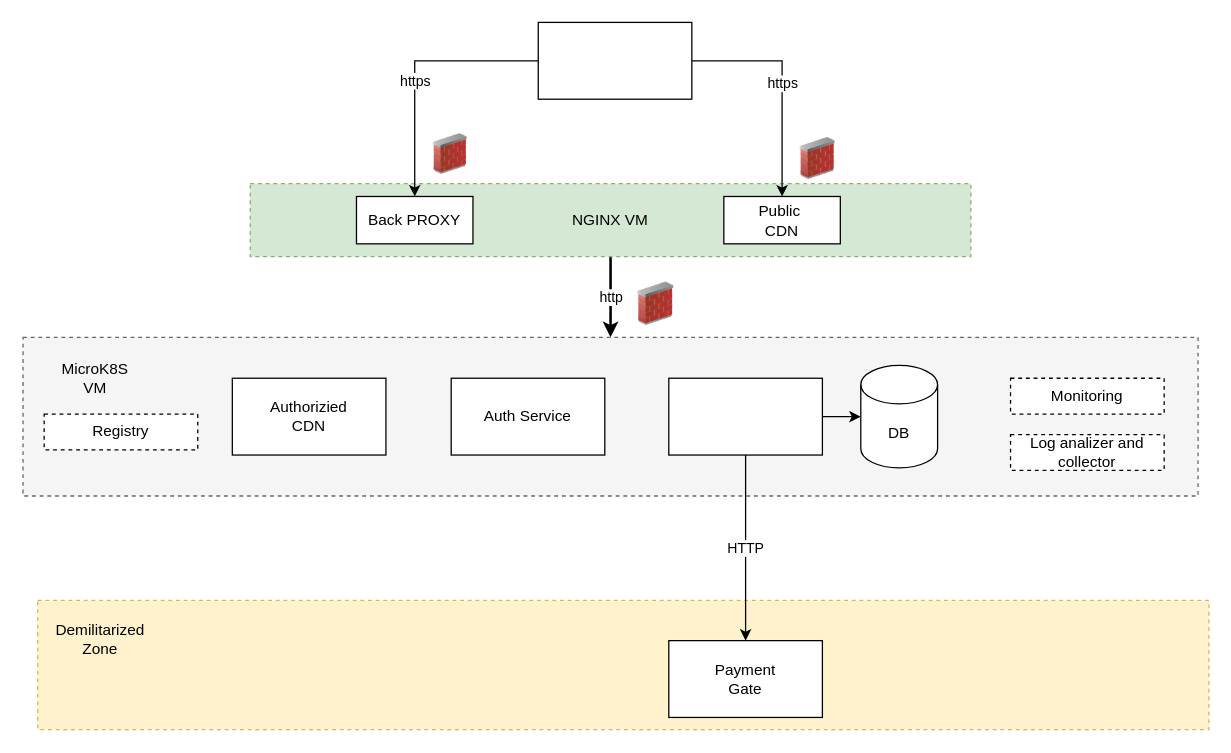
Some shapes in this 1231 by 753 pixel diagram are drawn without their labels. Here are the shapes that lost their labels. From the top down, the centre of each, then its label:
At point 614,60: "Naris Web Client".
At point 745,416: "Business Logic".
